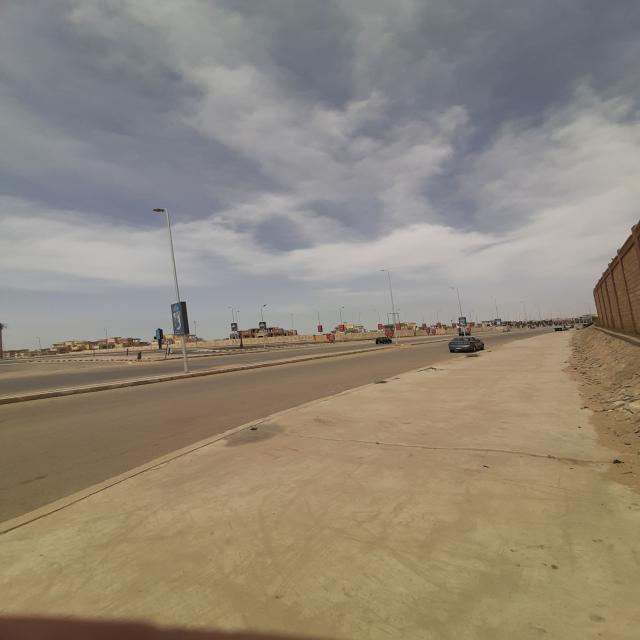Street Light: (151, 208, 190, 374), (379, 270, 399, 346), (450, 287, 466, 336), (489, 296, 501, 334), (313, 309, 323, 342), (260, 304, 266, 349), (519, 302, 528, 330), (340, 307, 346, 343), (436, 310, 442, 335)
